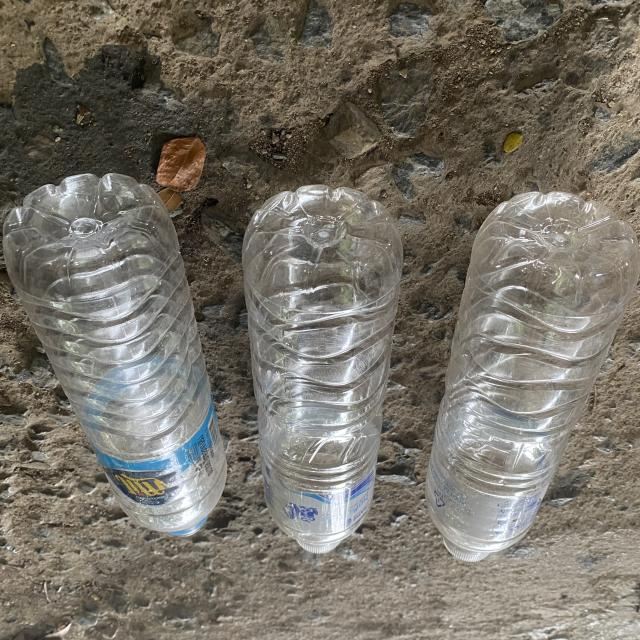plastik: (2, 173, 226, 537), (426, 193, 639, 561), (242, 185, 403, 553)
